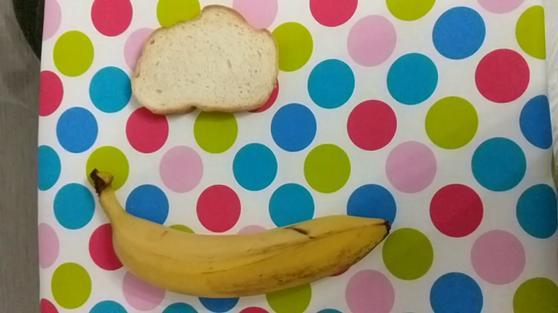banana: (77, 164, 396, 294)
white_bread: (127, 3, 288, 118)
